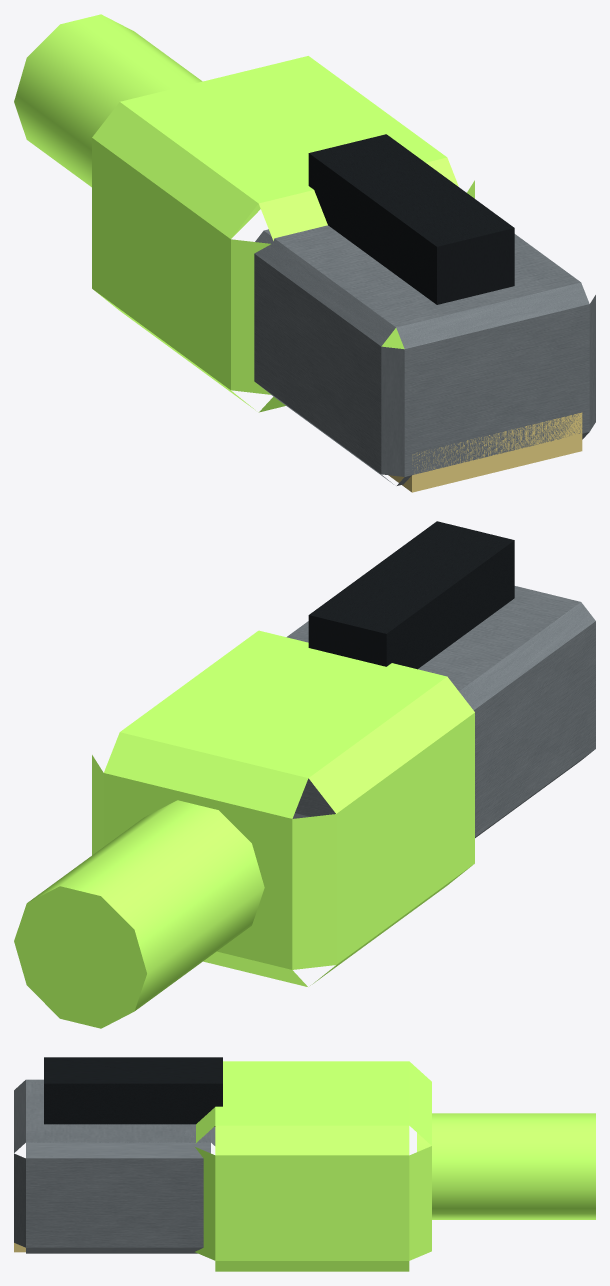
Rendered from connector_rj45.glb.
The picture shows the model from 3 angles, top to bottom: view 1: azimuth 30°, elevation 25°; view 2: azimuth 150°, elevation 25°; view 3: azimuth 270°, elevation 25°; orthographic projection. The views are drawn at different scales.
Visible parts, largest first — view 1: LOD0; view 2: LOD0; view 3: LOD0.
Boxes of the visible parts, x1,y1,x2,y2 form: LOD0: (14, 14, 595, 492); LOD0: (14, 521, 595, 1028); LOD0: (14, 1057, 595, 1271).
Size of what is drawn, in the model's own units: 0.0132 by 0.0125 by 0.039.
4 materials, 2 textured.
